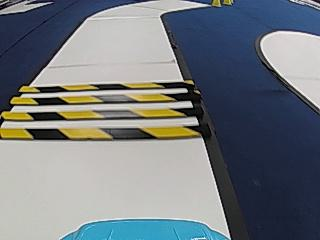bump: (0, 73, 209, 149)
